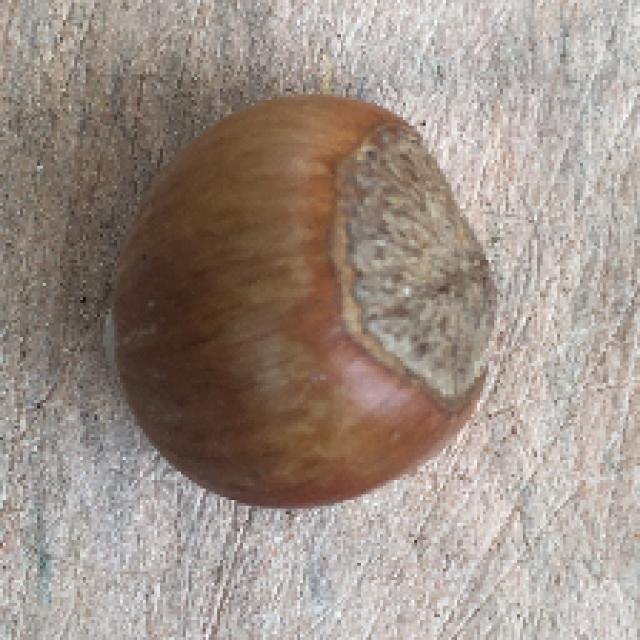qualityHazelnut: (110, 86, 496, 519)
